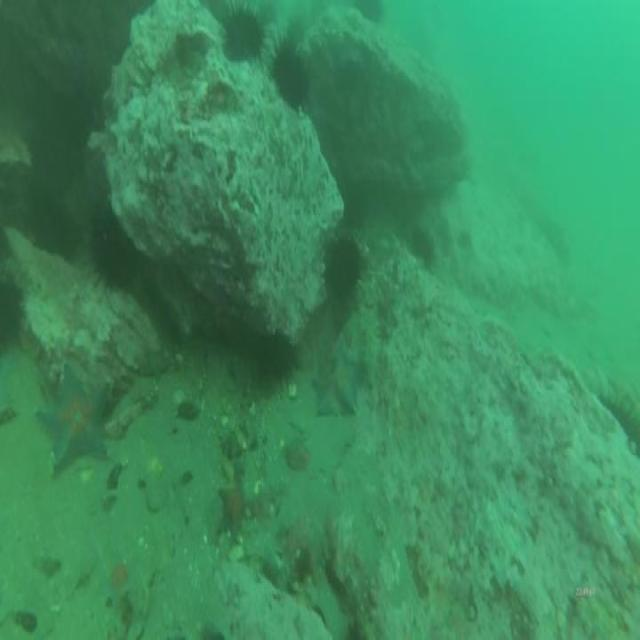echinus: (86, 204, 136, 288), (268, 33, 310, 114), (597, 389, 640, 463), (221, 0, 265, 70), (323, 231, 365, 300), (254, 330, 300, 392), (31, 202, 77, 261), (0, 273, 28, 363), (408, 224, 438, 275), (352, 0, 388, 32)
starfish: (34, 359, 114, 485), (308, 335, 366, 427), (212, 472, 252, 547), (99, 552, 142, 614)
